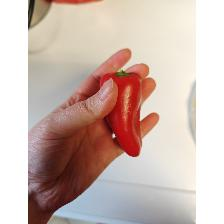Paprika: (98, 68, 144, 158)
